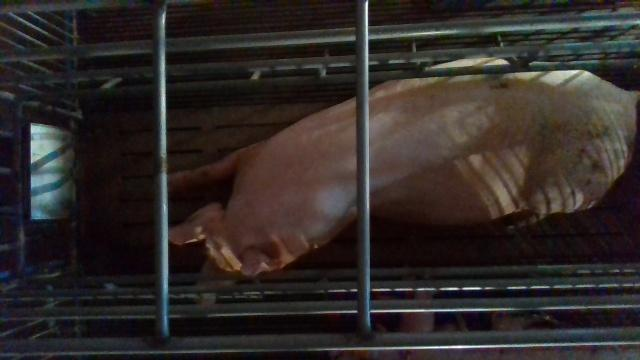sow-sit: (166, 56, 640, 304)
